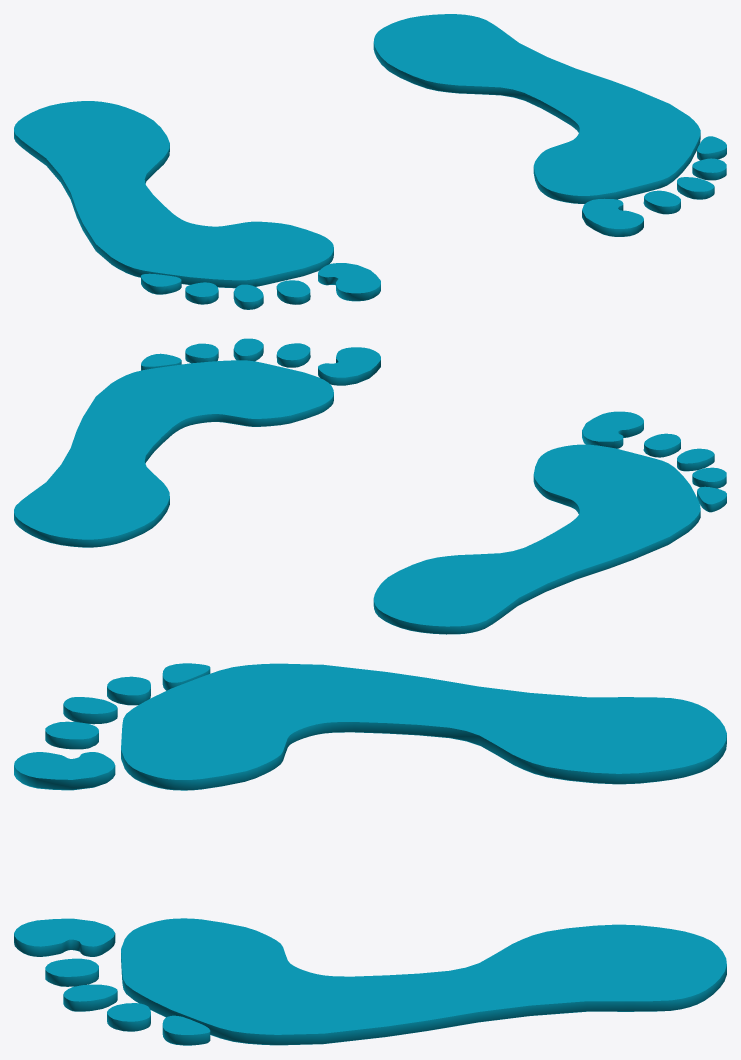
The model's file is footprints.fbx.
3 renders of one model, top to bottom at view 1: azimuth 30°, elevation 25°; view 2: azimuth 150°, elevation 25°; view 3: azimuth 270°, elevation 25°, orthographic. The views are drawn at different scales.
Visible parts, largest first — view 1: Object__0, Object__1; view 2: Object__1, Object__0; view 3: Object__0, Object__1.
Part boxes in pixels (box(x1,y1,x2,y2)): Object__0: box(373, 14, 726, 236); Object__1: box(14, 101, 380, 309); Object__1: box(373, 411, 726, 634); Object__0: box(14, 338, 380, 547); Object__0: box(14, 918, 726, 1045); Object__1: box(14, 663, 726, 790).
Size of the model in its own units: 0.8391 by 0.0123 by 0.6804.
